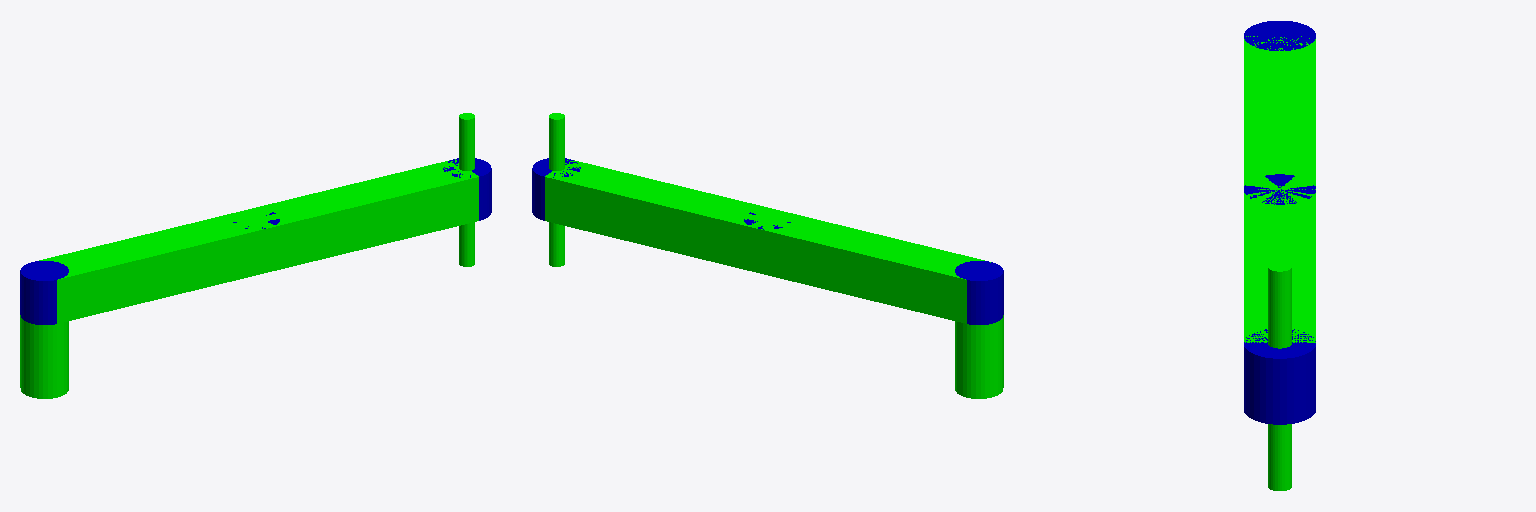
robot.urdf — scara:
<?xml version="1.0"?>
<robot name="scara">

    <!--    define materials-->
    <material name="blue">
        <color rgba="0 0 0.8 0.5"/>
    </material>

    <material name="green">
        <color rgba="0 1 0 0.5"/>
    </material>

    <!--    <material name="green">-->
    <!--        <color rgba="1 1 1 1"/>-->
    <!--    </material>-->

    <!--  base link-->
    <link name="base_link">
        <visual>
            <origin rpy="0 0 0" xyz="0 0 0.5"/>
            <geometry>
                <cylinder length="1" radius="0.3"/>
            </geometry>
            <material name="green"/>
        </visual>
    </link>

    <!--  link 1b-->
    <link name="link1b">
        <visual>
            <origin rpy="0 0 0" xyz="0 0 0"/>
            <geometry>
                <cylinder length="0.6" radius="0.3"/>
            </geometry>
            <material name="blue"/>
        </visual>
    </link>

    <!--  link 1-->
    <link name="link1">
        <visual>
            <origin rpy="0 0 0" xyz="1.5 0 0"/>
            <geometry>
                <box size="3 0.6 0.6"/>
            </geometry>
            <material name="green"/>
        </visual>
    </link>

    <!--  link 2b-->
    <link name="link2b">
        <visual>
            <origin rpy="0 0 0" xyz="0 0 0"/>
            <geometry>
                <cylinder length="0.6" radius="0.3"/>
            </geometry>
            <material name="blue"/>
        </visual>
    </link>

    <!--  link 2-->
    <link name="link2">
        <visual>
            <origin rpy="0 0 0" xyz="1.5 0 0"/>
            <geometry>
                <box size="3 0.6 0.6"/>
            </geometry>
            <material name="green"/>
        </visual>
    </link>

    <!--  link 2c-->
    <link name="link2c">
        <visual>
            <origin rpy="0 0 0" xyz="0 0 0"/>
            <geometry>
                <cylinder length="0.6" radius="0.3"/>
            </geometry>
            <material name="blue"/>
        </visual>
    </link>

    <!--  link ee-->
    <link name="link_ee">
        <visual>
            <origin rpy="0 0 0" xyz="0 0 0"/>
            <geometry>
                <cylinder length="2" radius="0.1"/>
            </geometry>
            <material name="green"/>
        </visual>
    </link>

    <!--    *********************************** JOINTS ***********************************-->

    <!--  joint base link to link 1 (6.28 = 2*PI)-->
    <joint name="base_link_to_link1" type="revolute">
        <axis xyz="0 0 1"/>
        <limit effort="1000.0" lower="0.0" upper="6.28" velocity="0.5"/>
        <origin rpy="0 0 0" xyz="0 0 1.3"/>
        <parent link="base_link"/>
        <child link="link1"/>
    </joint>

    <!--    fixed link1 to link 1b-->
    <joint name="link1_to_link1b" type="fixed">
        <origin rpy="0 0 0" xyz="0 0 0"/>
        <parent link="link1"/>
        <child link="link1b"/>
    </joint>

    <!--  link 1 to link 2b-->
    <joint name="link1_to_link2b" type="fixed">
        <origin rpy="0 0 0" xyz="3 0 0"/>
        <parent link="link1"/>
        <child link="link2b"/>
    </joint>

    <!--    link 2b to link 2-->
    <joint name="link2b_to_link2" type="revolute">
        <axis xyz="0 0 1"/>
        <limit effort="1000.0" lower="-2.5" upper="2.5" velocity="0.5"/>
        <origin rpy="0 0 0" xyz="0 0 0"/>
        <parent link="link2b"/>
        <child link="link2"/>
    </joint>

    <!--  link 2 to link 2c-->
    <joint name="link2_to_link2c" type="fixed">
        <origin rpy="0 0 0" xyz="3 0 0"/>
        <parent link="link2"/>
        <child link="link2c"/>
    </joint>

    <joint name="link2c_to_link_ee" type="prismatic">
        <axis xyz="0 0 1"/>
        <parent link="link2c"/>
        <child link="link_ee"/>
        <limit effort="1000.0" lower="-0.5" upper="0.5" velocity="0.5"/>
        <origin rpy="0 0 0" xyz="0 0 0"/>
    </joint>
</robot>

--- Render facts (derived) ---
3 views of the same robot in one strip: view 1: azimuth 30°, elevation 25°; view 2: azimuth 150°, elevation 25°; view 3: azimuth 270°, elevation 25° (orthographic).
Robot: scara — 7 links, 6 joints (2 revolute, 1 prismatic, 3 fixed); root link base_link; default pose: every joint at zero.
Visible links, largest first — view 1: link2, link1, base_link, link1b, link_ee, link2c; view 2: link2, link1, base_link, link1b, link_ee, link2c; view 3: link1, link2, link2c, link_ee, link1b, link2b.
Link boxes in pixels (left/top/right/bottom): link2: left=244, top=159, right=478, bottom=271; link1: left=39, top=211, right=267, bottom=323; base_link: left=20, top=315, right=68, bottom=398; link1b: left=20, top=261, right=68, bottom=324; link_ee: left=459, top=113, right=474, bottom=266; link2c: left=443, top=158, right=491, bottom=220; link2: left=545, top=159, right=779, bottom=271; link1: left=756, top=211, right=990, bottom=323; base_link: left=955, top=315, right=1003, bottom=398; link1b: left=955, top=261, right=1003, bottom=324; link_ee: left=549, top=113, right=564, bottom=266; link2c: left=532, top=158, right=580, bottom=220; link1: left=1244, top=36, right=1315, bottom=189; link2: left=1244, top=190, right=1315, bottom=342; link2c: left=1244, top=329, right=1315, bottom=424; link_ee: left=1268, top=261, right=1291, bottom=490; link1b: left=1244, top=21, right=1315, bottom=50; link2b: left=1244, top=174, right=1315, bottom=204.
Bounding box of the posed robot: 6.6 × 0.6 × 2.3 m (x, y, z).
Geometry: primitives only (box / cylinder / sphere), no mesh files.